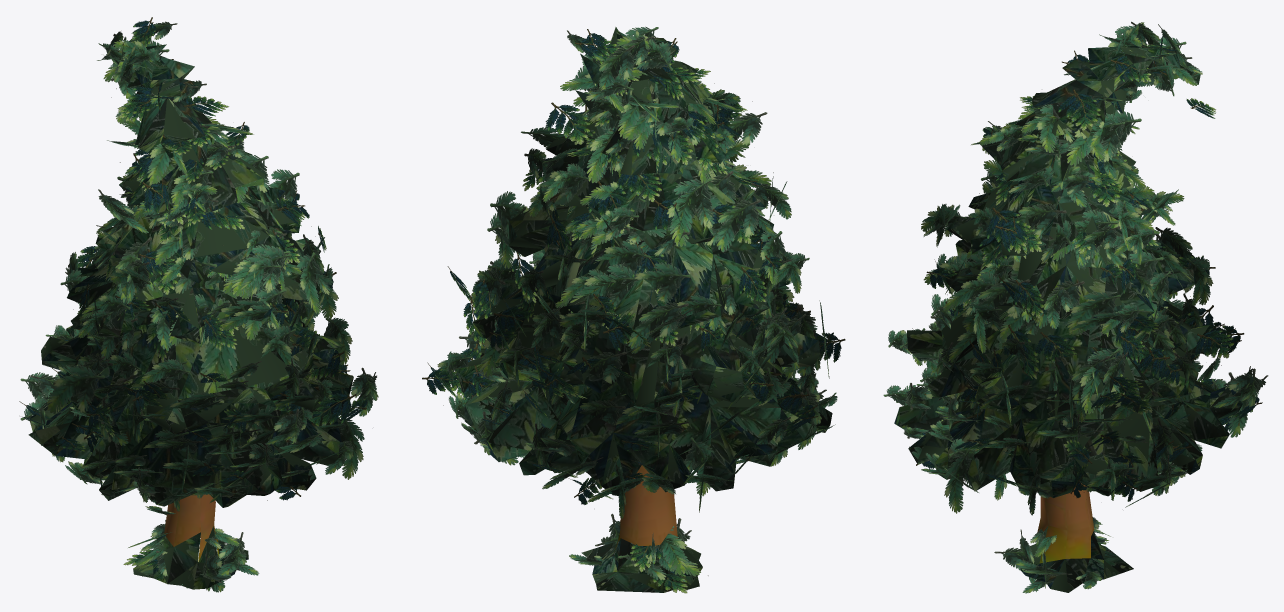
The model's file is pine_5.glb.
3 renders of one model, left to right at view 1: azimuth 30°, elevation 25°; view 2: azimuth 150°, elevation 25°; view 3: azimuth 270°, elevation 25°, orthographic. The views are drawn at different scales.
Parts seen in each view (by area): view 1: Fable_pine_5; view 2: Fable_pine_5; view 3: Fable_pine_5.
Part boxes in pixels (x1=…): Fable_pine_5: x1=19, y1=17, x2=378, y2=592; Fable_pine_5: x1=422, y1=26, x2=845, y2=593; Fable_pine_5: x1=883, y1=21, x2=1268, y2=593.
Bounding box in the file's own units: 5.8 × 8.72 × 5.55.
Materials: 2 (2 with a texture image).
